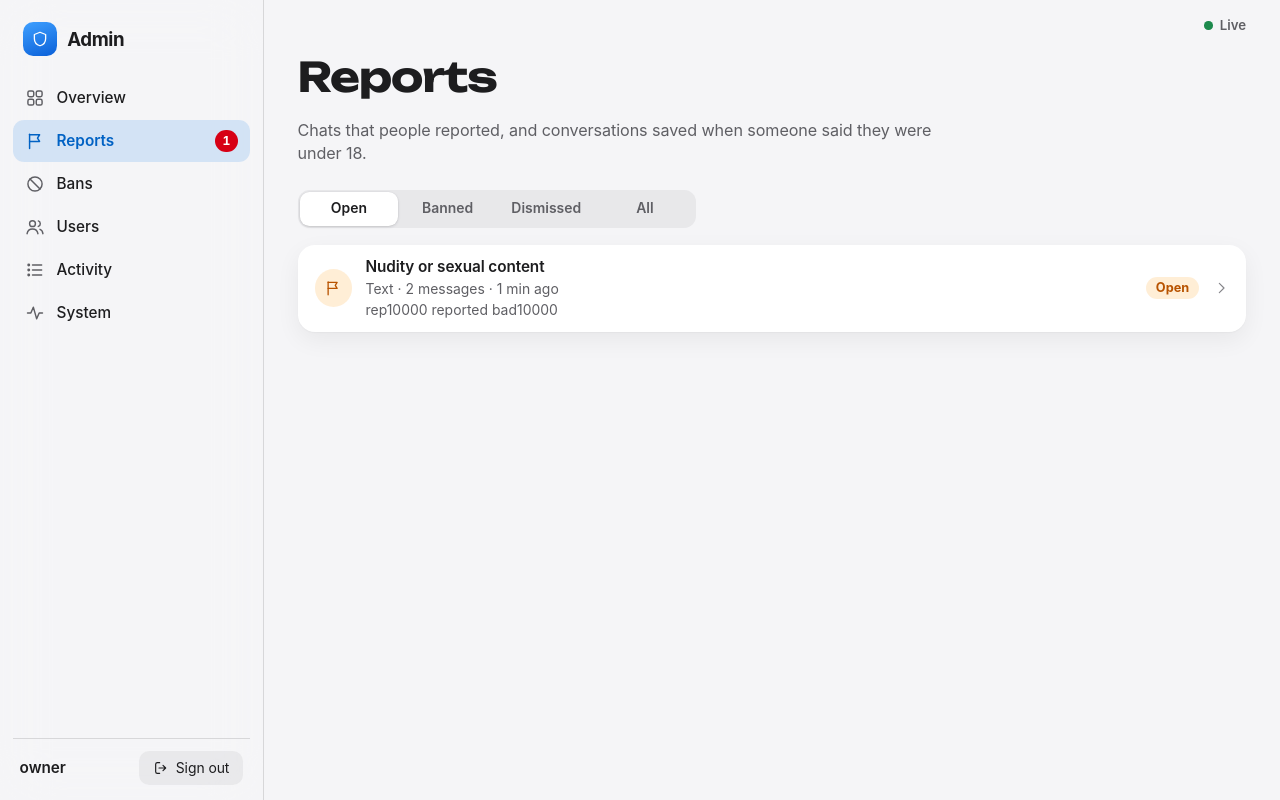
Scenario: reports › opens one in a sheet with the conversation in order, labelled, and who is on which side
What coordinates should you click on to do the following:
click the button "Nudity"
I would click on:
 (333, 288)
Its box is [298, 244, 1246, 332].
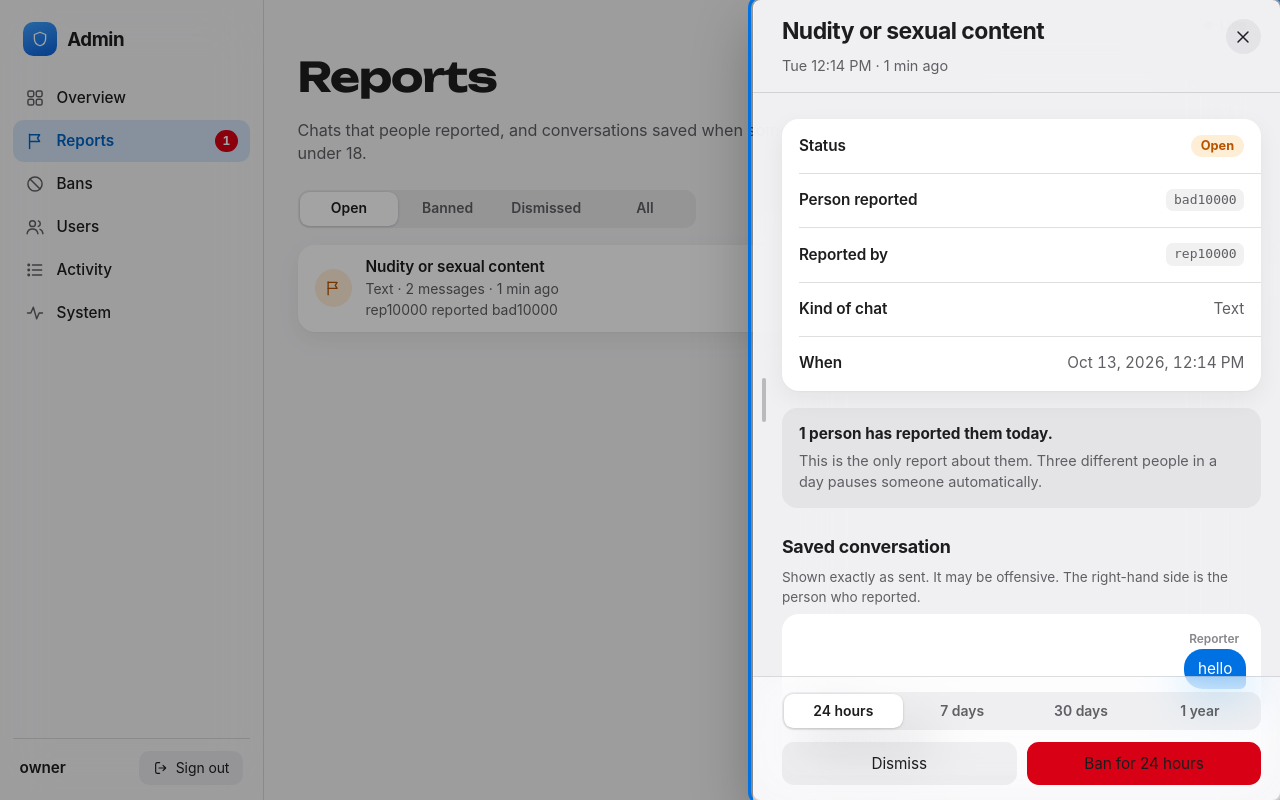
Check: the list item "Reporter hello" is shown, box [1182, 630, 1246, 688]
Check: the list item "Reported something rude" is shown, box [797, 700, 938, 759]
Check: the text "bad10000" is shown, box [1166, 189, 1244, 211]
